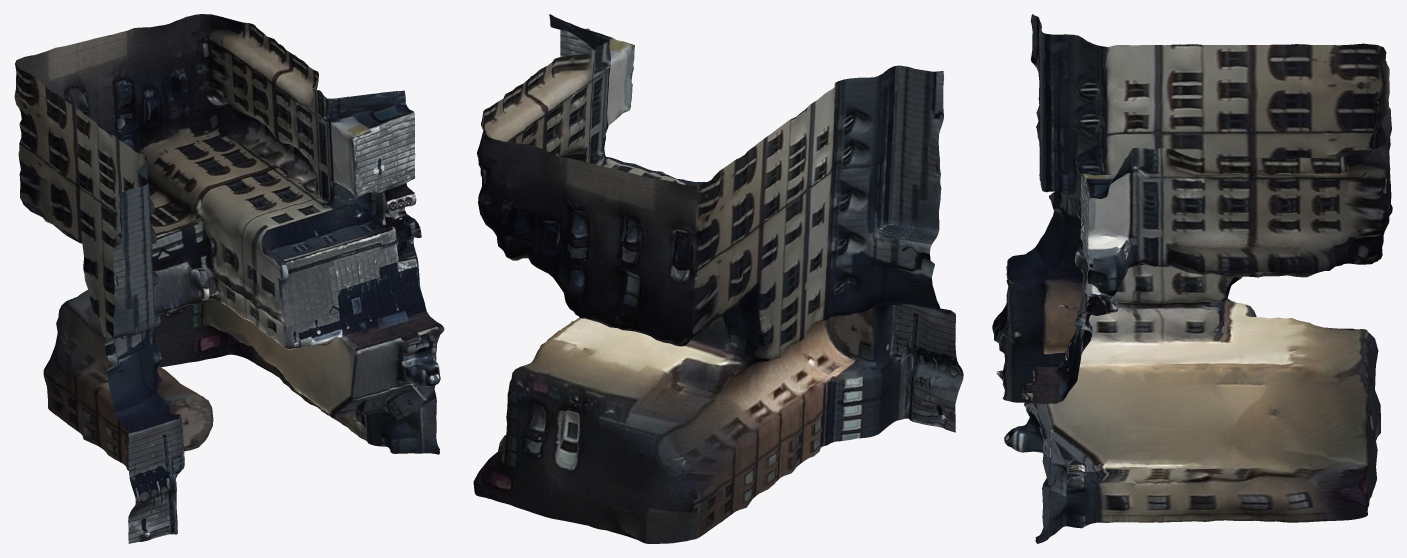
File: Tile_+029_+018_L21_0003000.fbx
3 renders of one model, left to right at view 1: azimuth 30°, elevation 25°; view 2: azimuth 150°, elevation 25°; view 3: azimuth 270°, elevation 25°, orthographic. The views are drawn at different scales.
Parts seen in each view (by area): view 1: DefaultName; view 2: DefaultName; view 3: DefaultName.
Part boxes in pixels (x1,y1,x2,y2): DefaultName: (14, 14, 444, 543); DefaultName: (473, 14, 963, 543); DefaultName: (992, 14, 1392, 543).
Bounding box in the file's own units: 31.38 × 31.38 × 31.51.
1 material, 1 textured.
